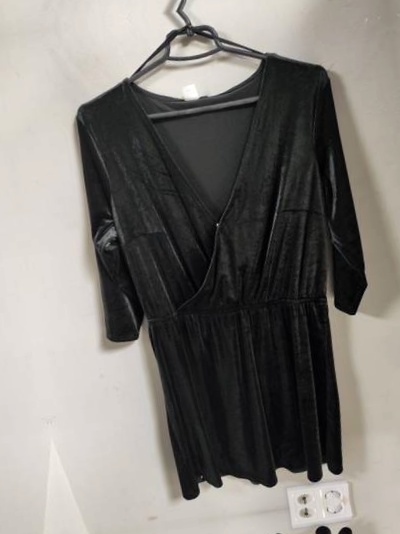Dress: (19, 30, 400, 499), (0, 83, 41, 534), (90, 529, 400, 534)
